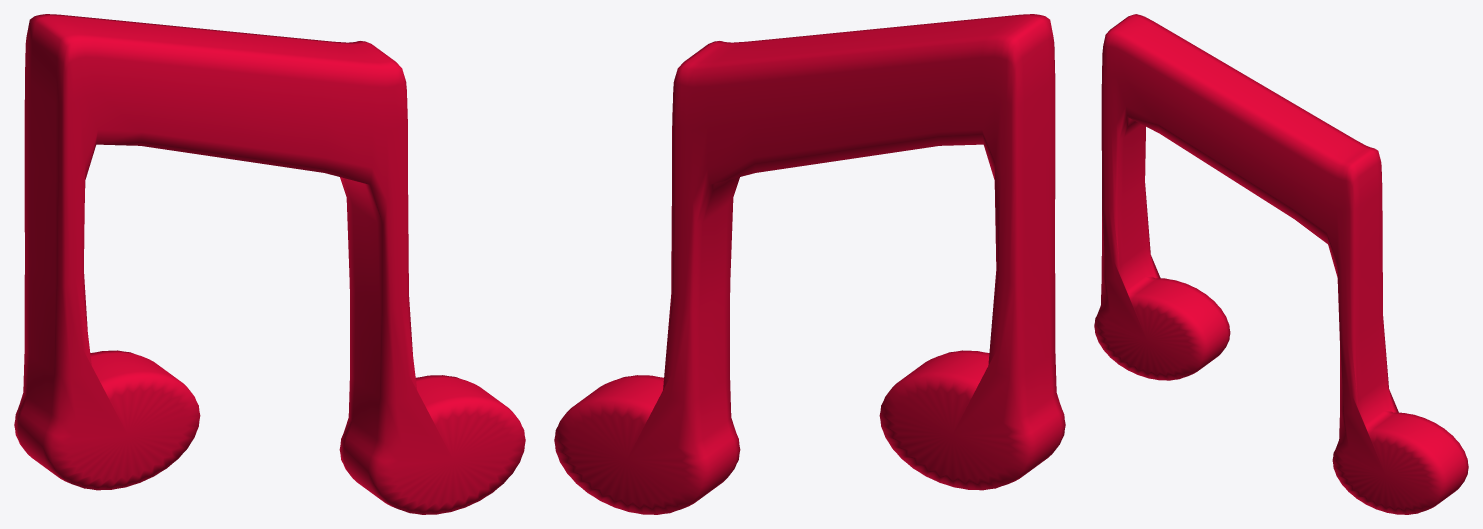
The model's file is uploads_files_2463288_Eighth+note.fbx.
The picture shows the model from 3 angles, left to right: view 1: azimuth 30°, elevation 25°; view 2: azimuth 150°, elevation 25°; view 3: azimuth 330°, elevation 25°; orthographic projection. The views are drawn at different scales.
Visible parts, largest first — view 1: Circle; view 2: Circle; view 3: Circle.
Boxes of the visible parts, box(x1,y1,x2,y2) form: Circle: box(14, 14, 525, 514); Circle: box(554, 14, 1065, 514); Circle: box(1094, 14, 1468, 514).
Size of the model in its own units: 104 by 118 by 15.58.
